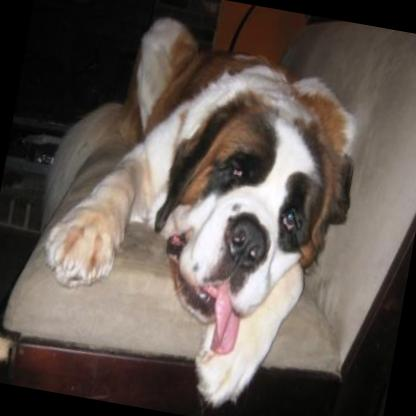Saint_Bernard: (22, 0, 376, 416)
